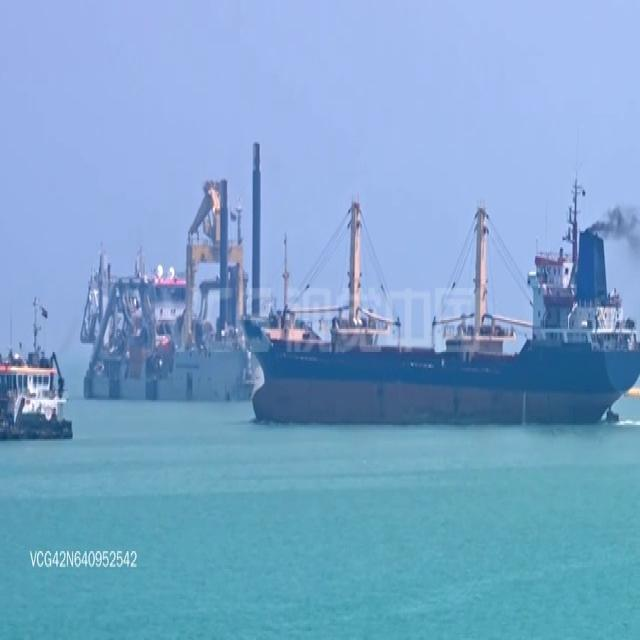cargoship: (247, 194, 640, 423), (72, 183, 280, 399)
passenger ship: (0, 331, 73, 439)
